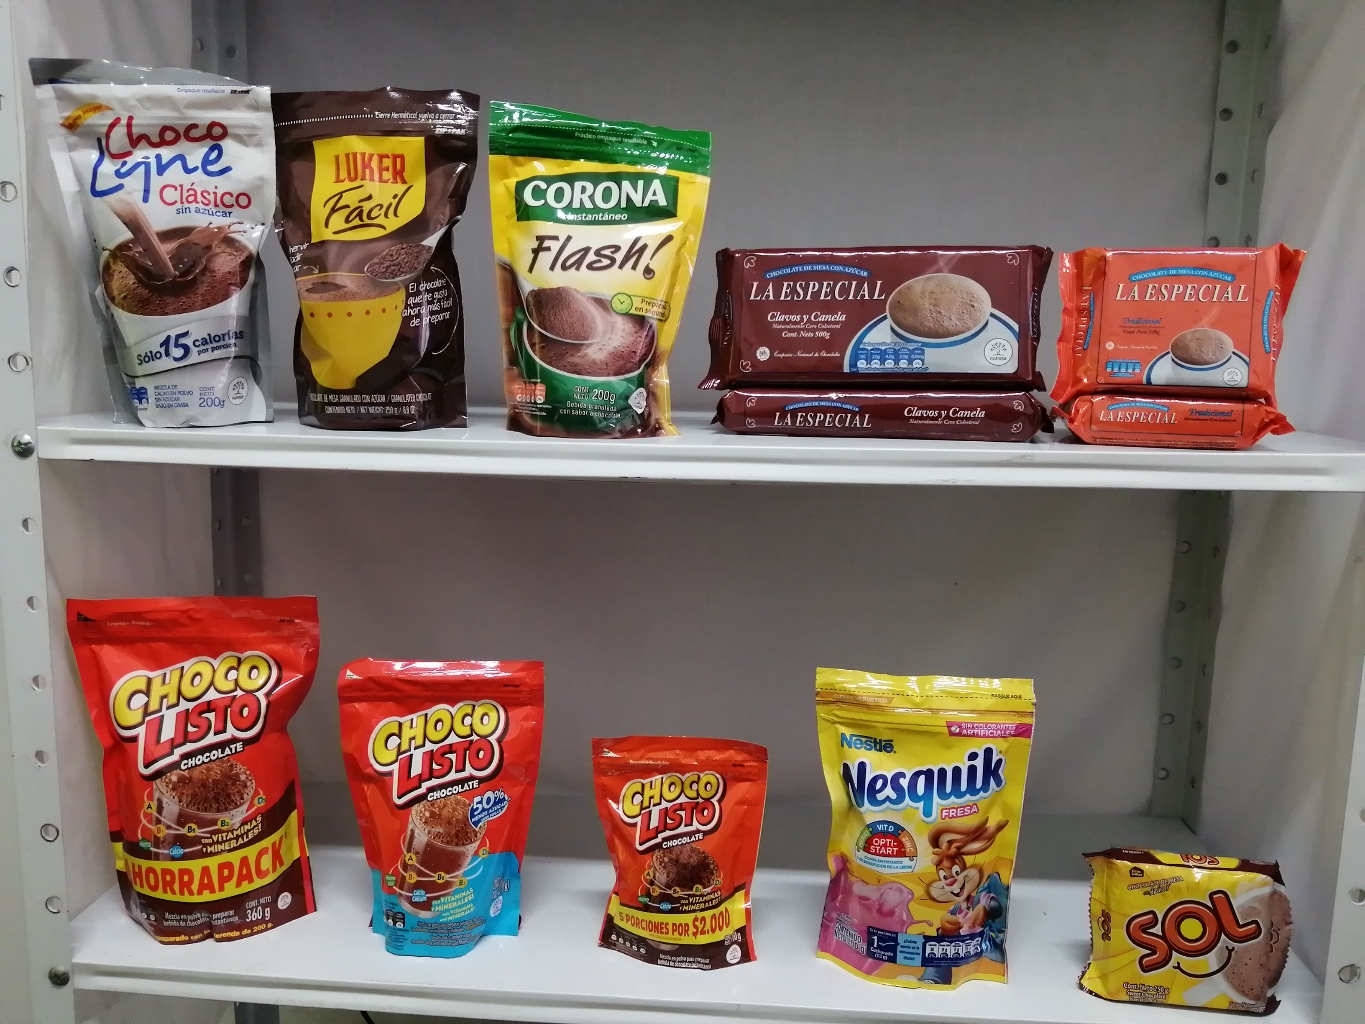COL0170103DYP36000: (43, 570, 335, 945)
COL0170104DYP20000: (337, 638, 553, 975)
COL0170305DYP20000: (799, 653, 1047, 1001)
